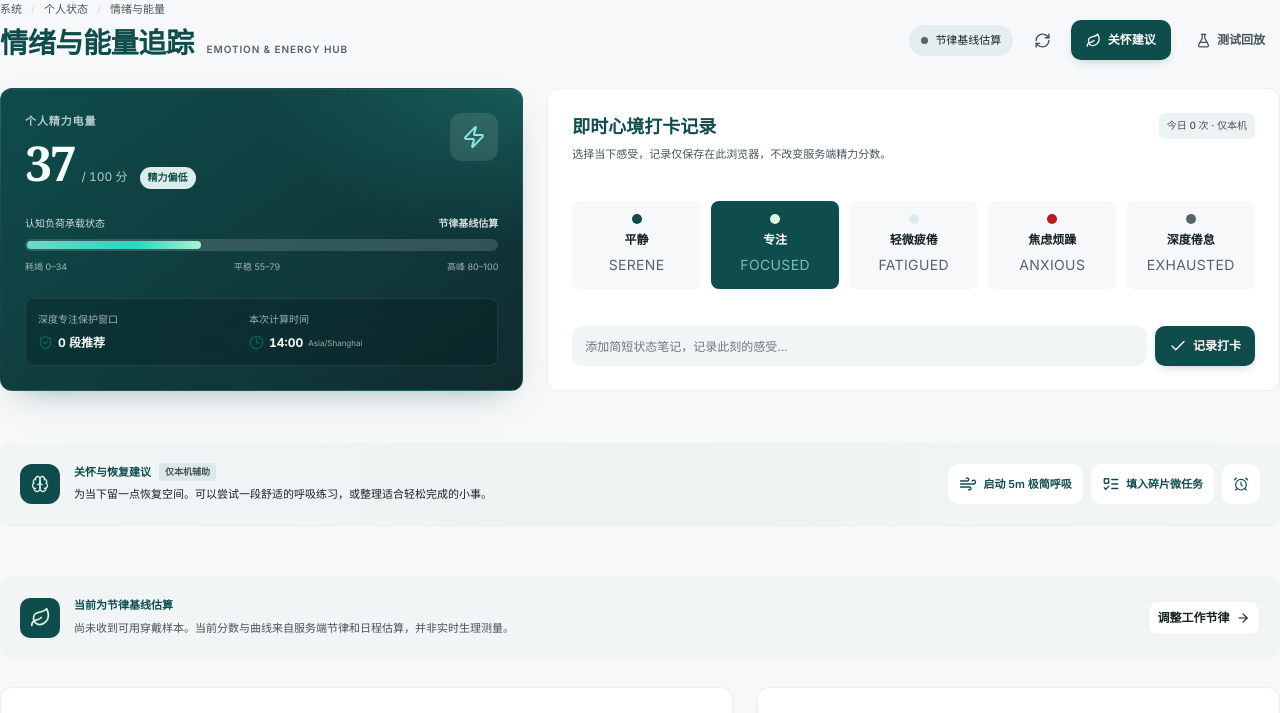
Test: wearable energy insights › requires explicit confirmation before seeding the well_rested replay
The width and height of the screenshot is (1280, 713).
Step 1. Click the button "测试回放" → (1230, 40), box [1181,20,1279,60]
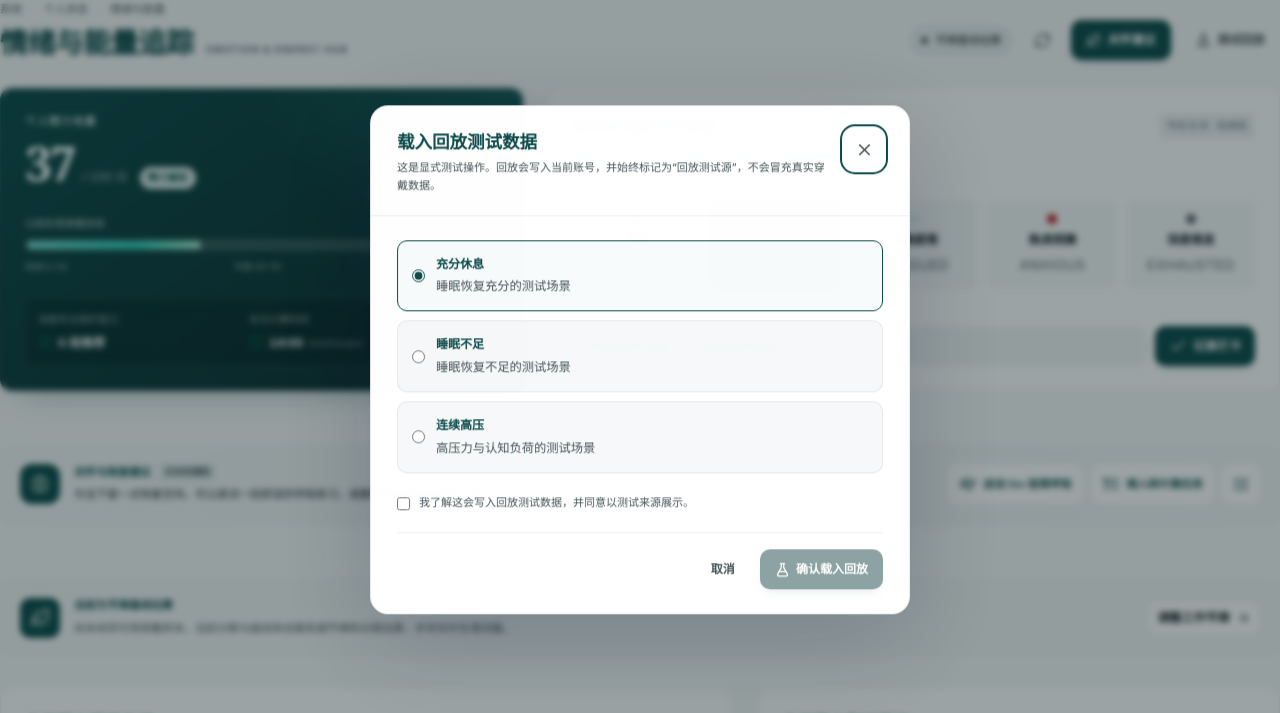
Step 2. Click the radio button labelled "充分休息 睡眠恢复充分的测试场景" → (418, 276), box [412,270,425,282]
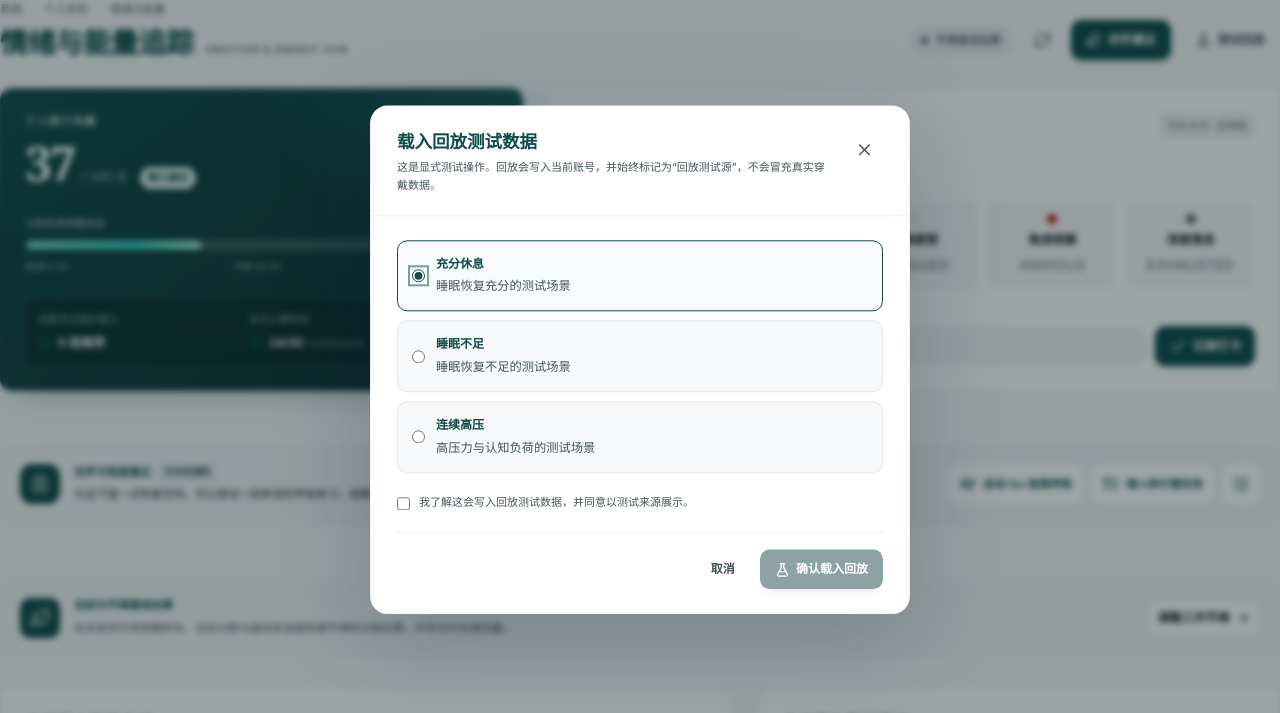
Check: the button "确认载入回放" is disabled, box [760,550,883,590]
Step 3. Click the checkbox labelled "我了解这会写入回放测试数据，并同意以测试来源展示。" → (404, 503), box [397,497,410,510]
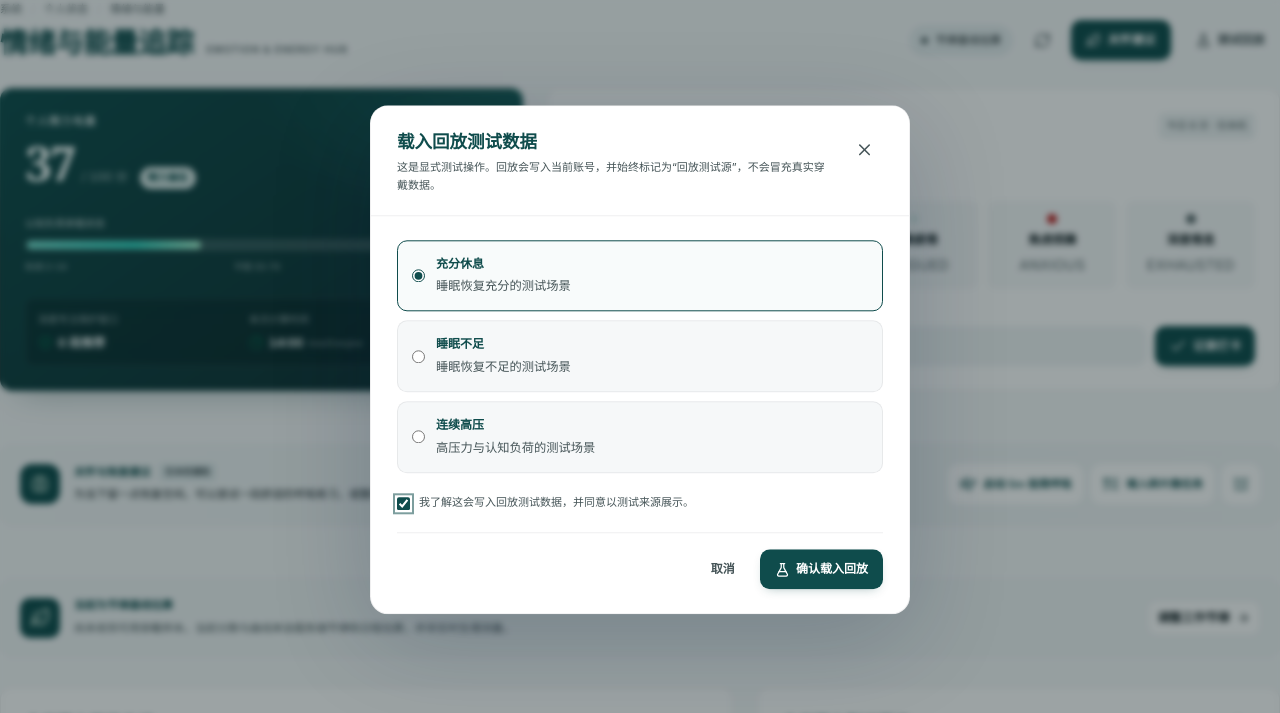
Step 4. Click the button "确认载入回放" → (821, 570), box [760,550,883,590]
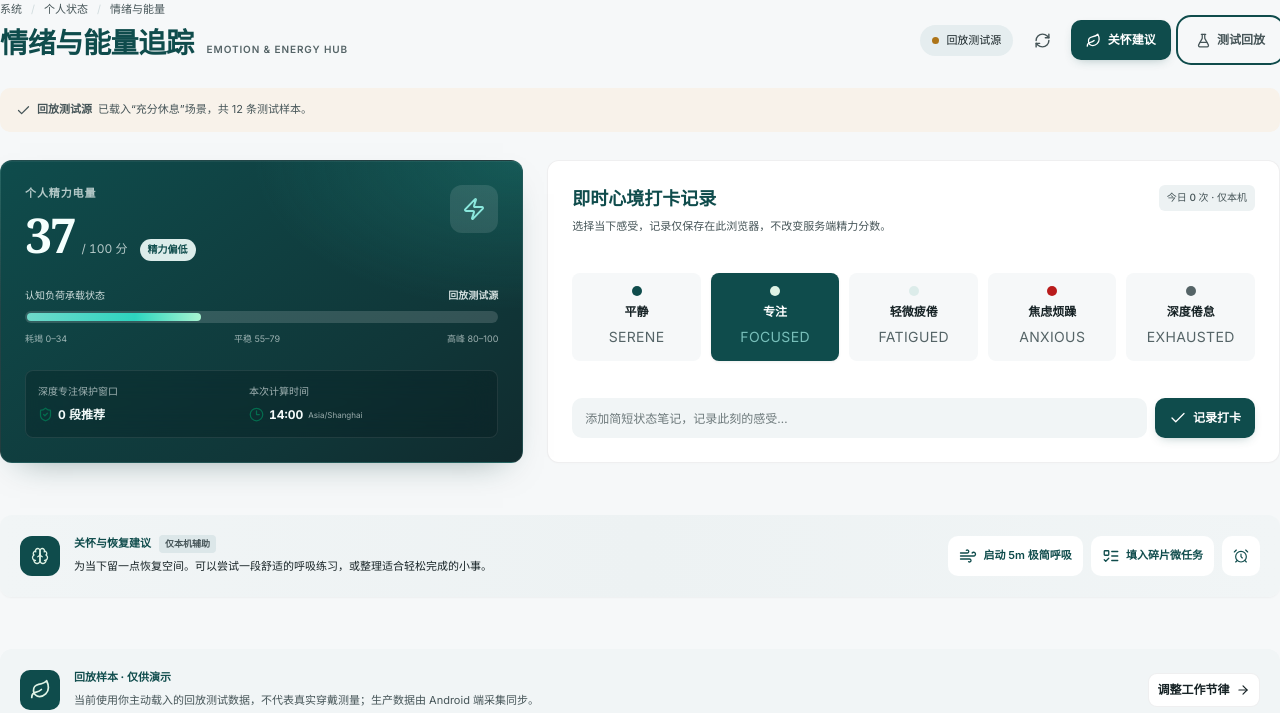
Check: the text "回放测试源" is shown, box [920,25,1013,56]
